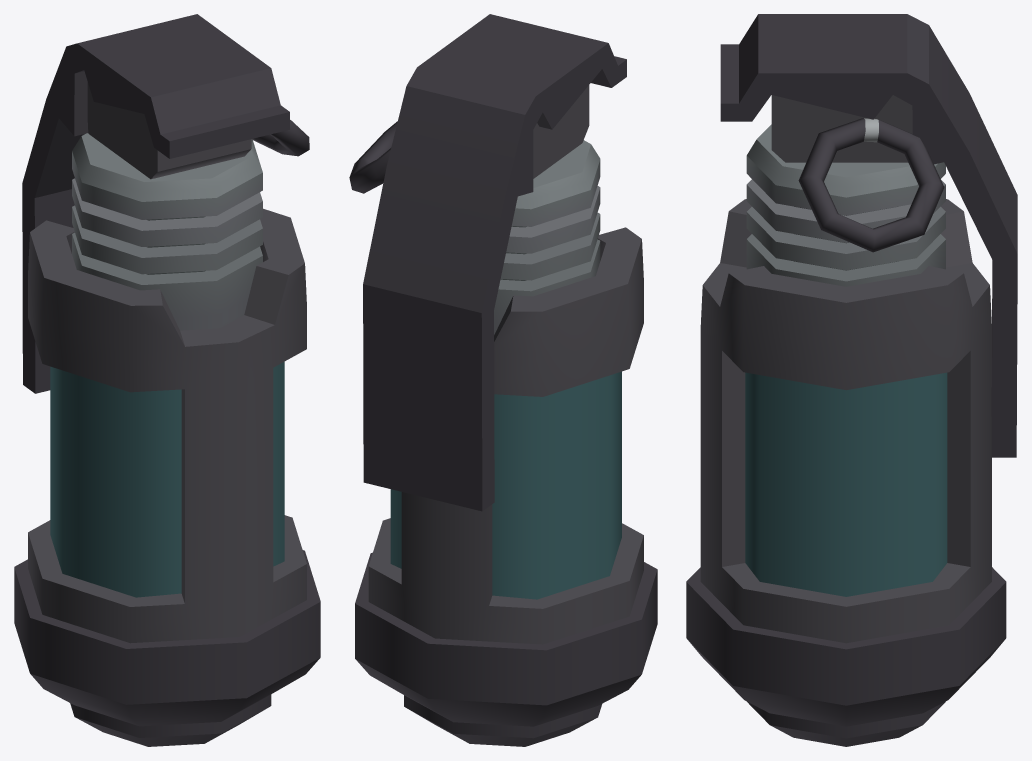
Rendered from Grenade_Flash.fbx.
3 renders of one model, left to right at view 1: azimuth 30°, elevation 25°; view 2: azimuth 150°, elevation 25°; view 3: azimuth 270°, elevation 25°, orthographic. The views are drawn at different scales.
Visible parts, largest first — view 1: Grenade03; view 2: Grenade03; view 3: Grenade03.
Boxes of the visible parts, left/top/right/bottom form: Grenade03: left=14, top=14, right=320, bottom=746; Grenade03: left=349, top=14, right=657, bottom=746; Grenade03: left=686, top=14, right=1017, bottom=746.
Size of the model in its own units: 0.2468 by 0.5667 by 0.2535.
